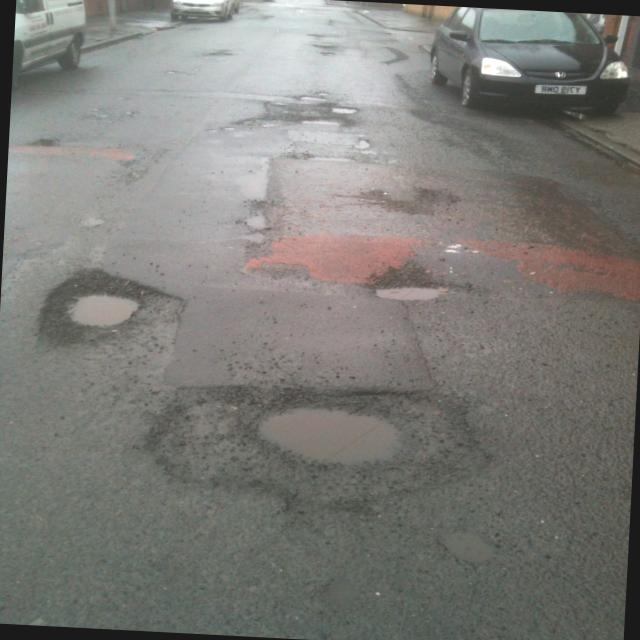bad-road: (140, 372, 497, 540), (32, 260, 186, 362), (368, 259, 456, 305), (322, 102, 359, 121), (354, 136, 372, 148)
